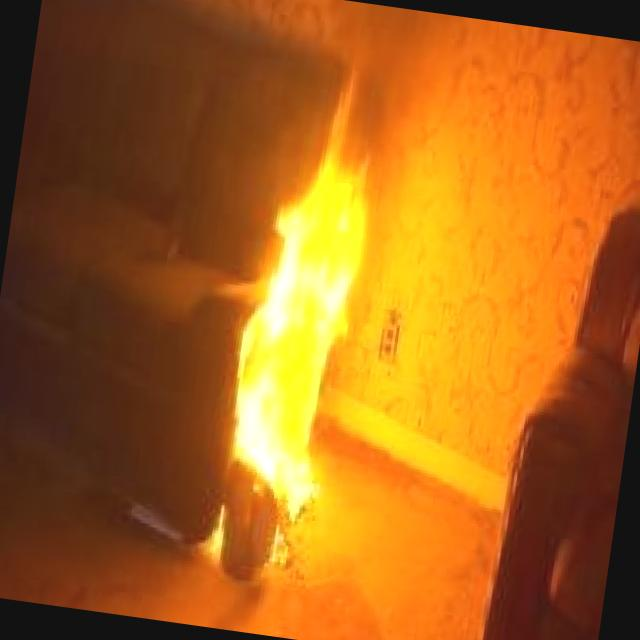fire: (182, 137, 392, 528)
